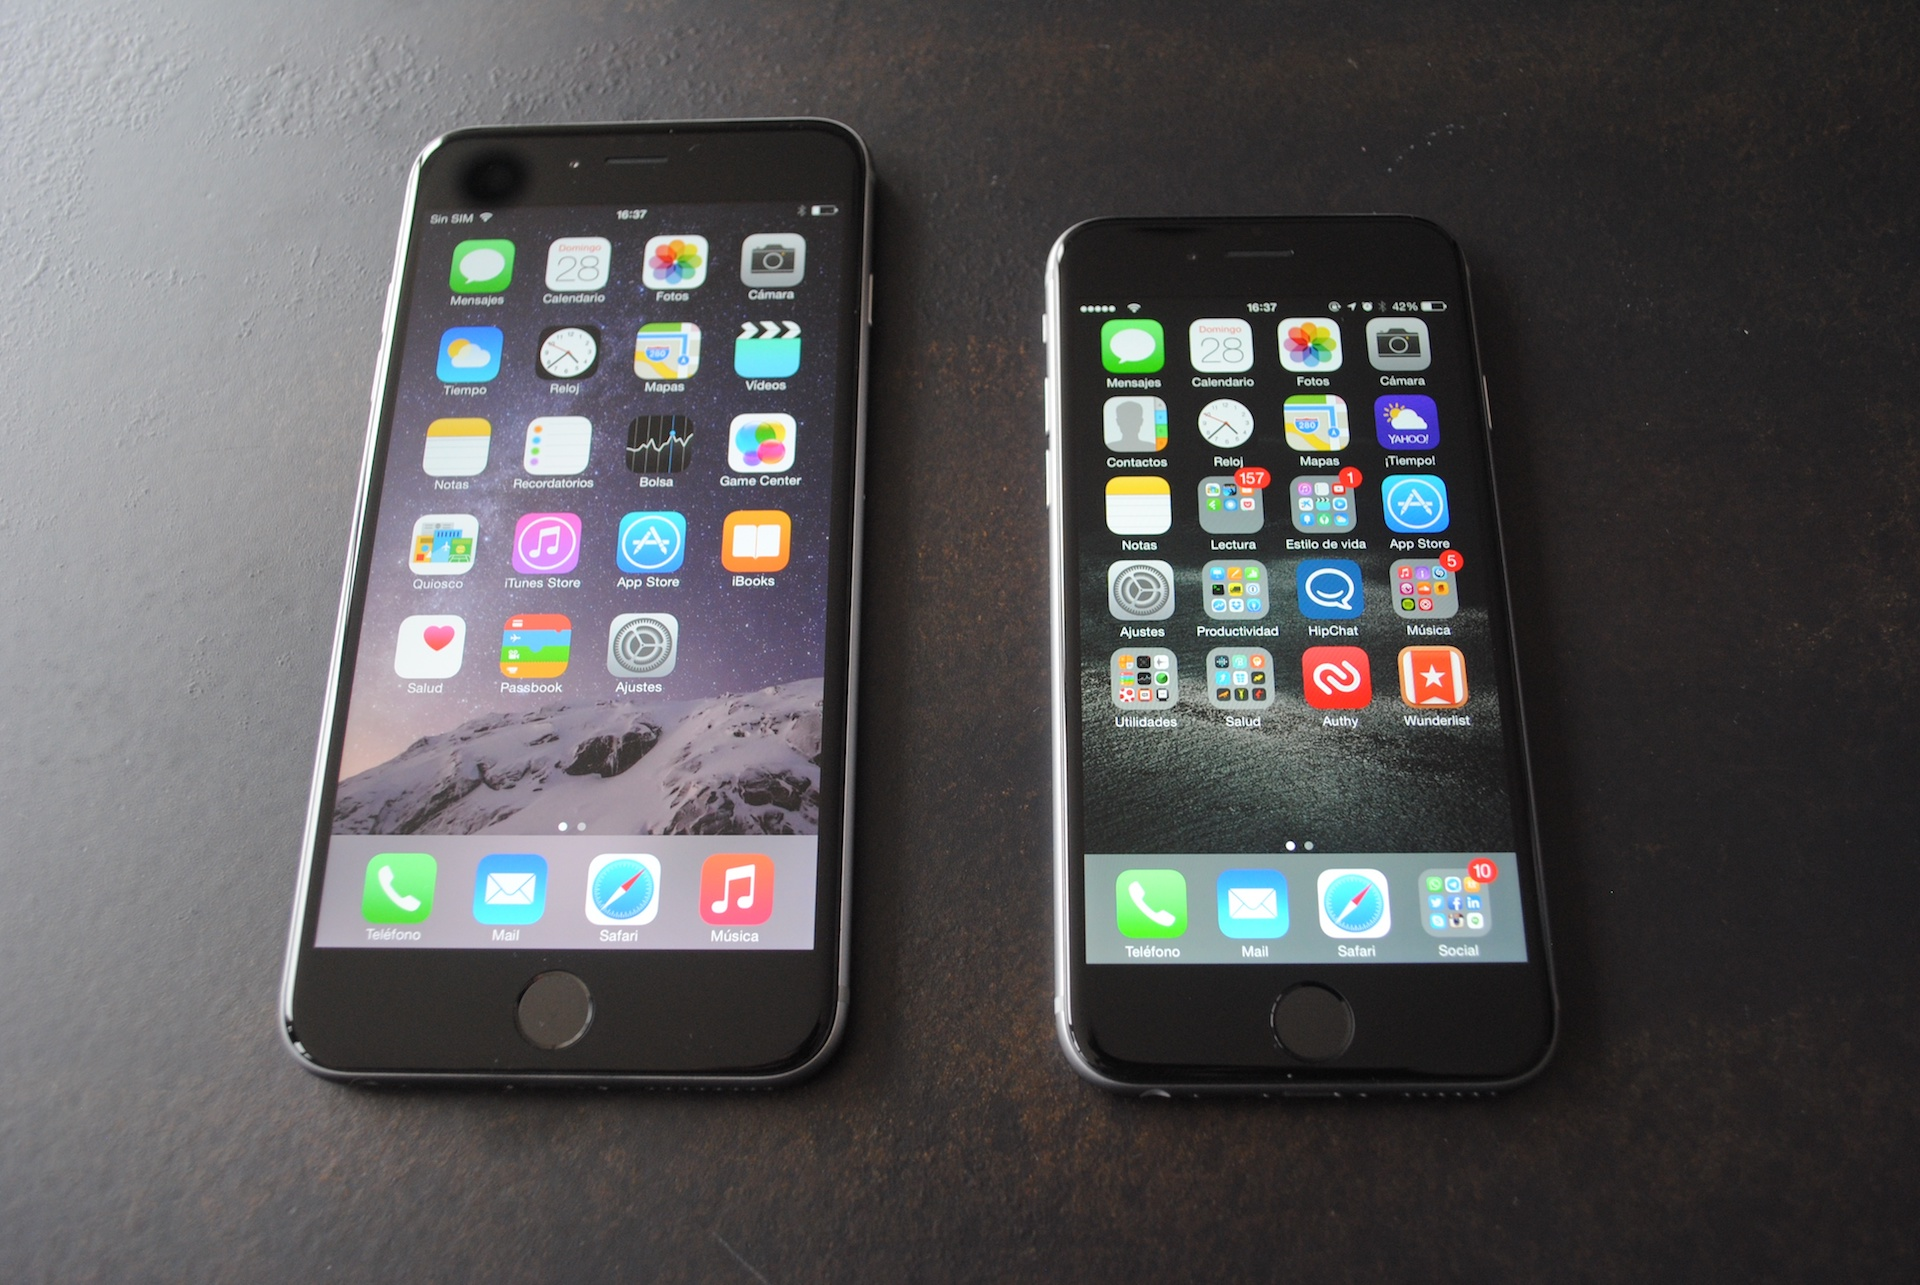smartphone: (272, 110, 879, 1096), (1037, 209, 1572, 1104)
